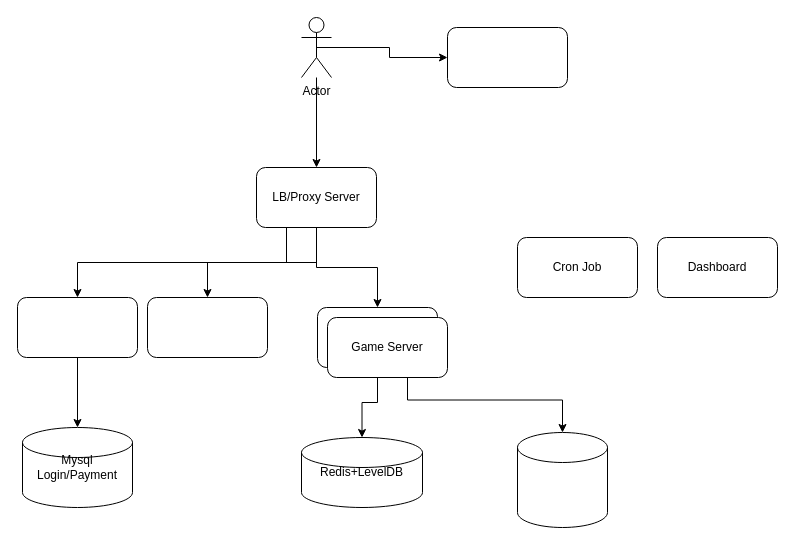
The diagram is 795 pixels wide and 545 high, and some of its shapes have lost their labels. The shapes that lost their labels are listed below. From the top down, each one's centre as x and y in pixels, then its label:
point (507, 57): CDN icon/config
point (77, 327): Login
point (207, 327): Serverlist
point (562, 480): MongoDB Location, POI
